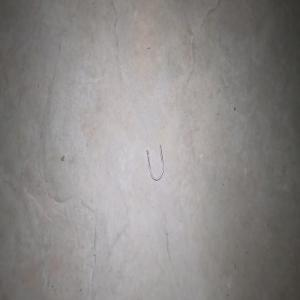ClampPart: (146, 143, 163, 180)
